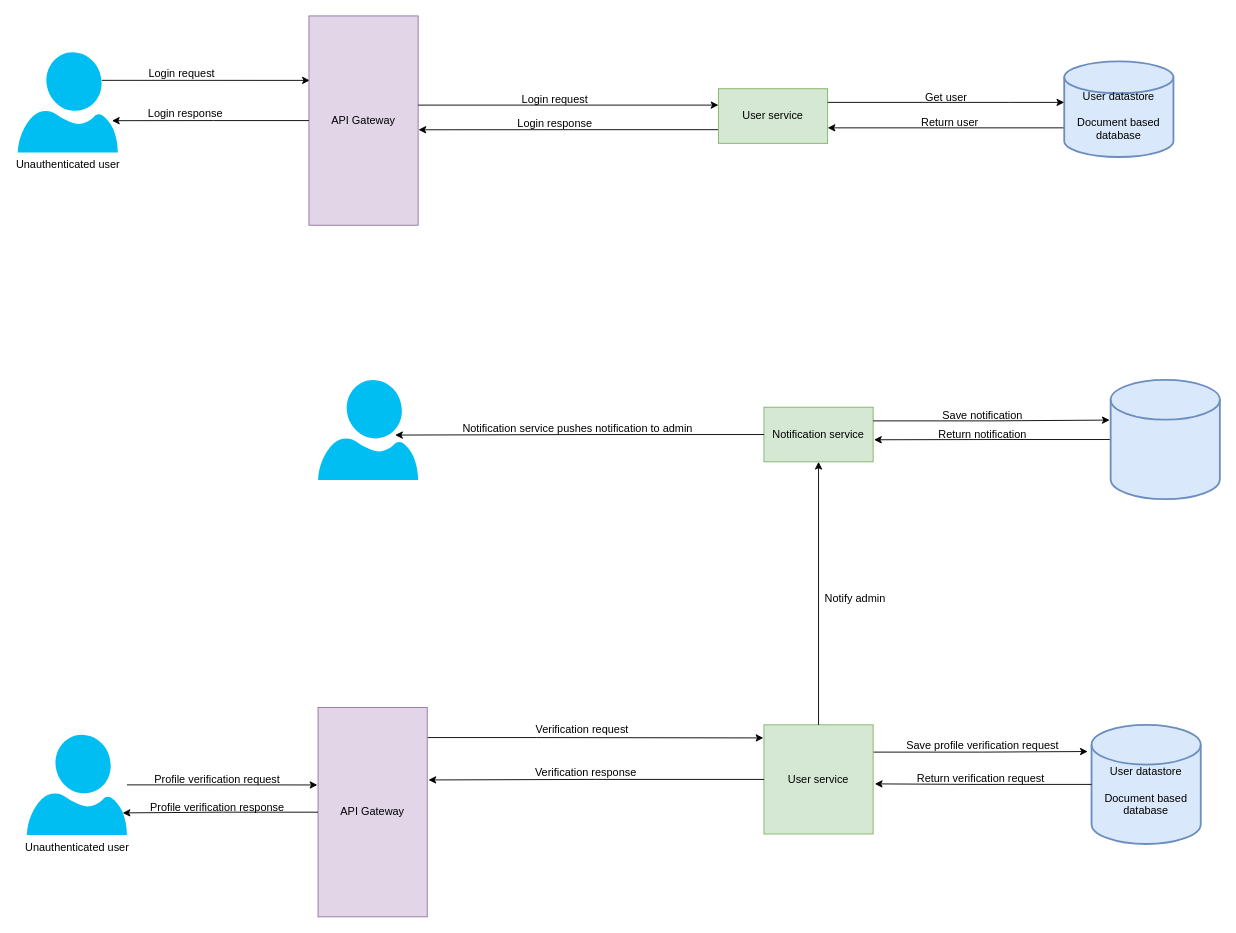
Image size: 1236x933. Some labels were removed from this diagram. Each missing label, with the centre of its shape:
"Admin" belongs at pixel 368 429.
"Notification datastore Key-value store" belongs at pixel 1164 439.
